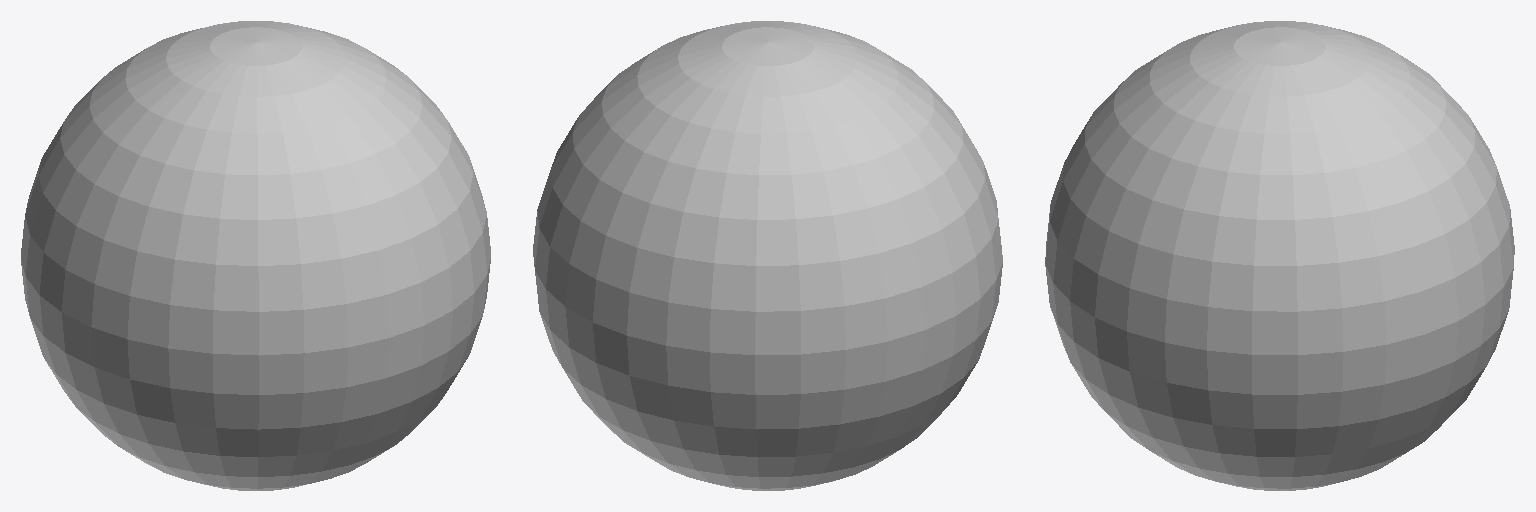
File: mesh_bodyjoint_r2.obj
3 views of the same model, side by side, from view 1: azimuth 30°, elevation 25°; view 2: azimuth 150°, elevation 25°; view 3: azimuth 270°, elevation 25° (orthographic).
Visible parts, largest first — view 1: Sphere.004_Sphere.005; view 2: Sphere.004_Sphere.005; view 3: Sphere.004_Sphere.005.
Boxes of the visible parts, x1,y1,x2,y2 form: Sphere.004_Sphere.005: [21, 21, 490, 490]; Sphere.004_Sphere.005: [533, 21, 1002, 490]; Sphere.004_Sphere.005: [1045, 21, 1514, 490].
Size of the model in its own units: 0.2991 by 0.3 by 0.2991.